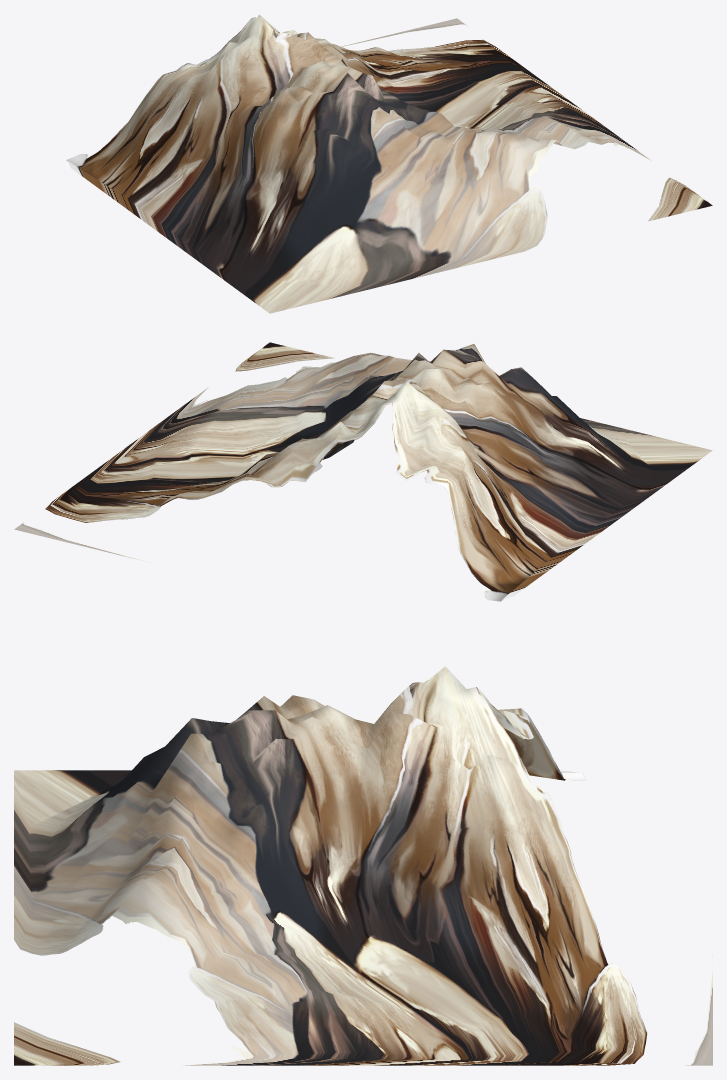
File: ayl_berg1.fbx
3 views of the same model, one above another, from view 1: azimuth 30°, elevation 25°; view 2: azimuth 150°, elevation 25°; view 3: azimuth 270°, elevation 25° (orthographic). The views are drawn at different scales.
Visible parts, largest first — view 1: Landscape; view 2: Landscape; view 3: Landscape.
Part boxes in pixels (box(x1,y1,x2,y2)): Landscape: box(66, 14, 712, 313); Landscape: box(14, 342, 712, 601); Landscape: box(14, 666, 712, 1065).
Size of the model in its own units: 200 by 63.87 by 200.
